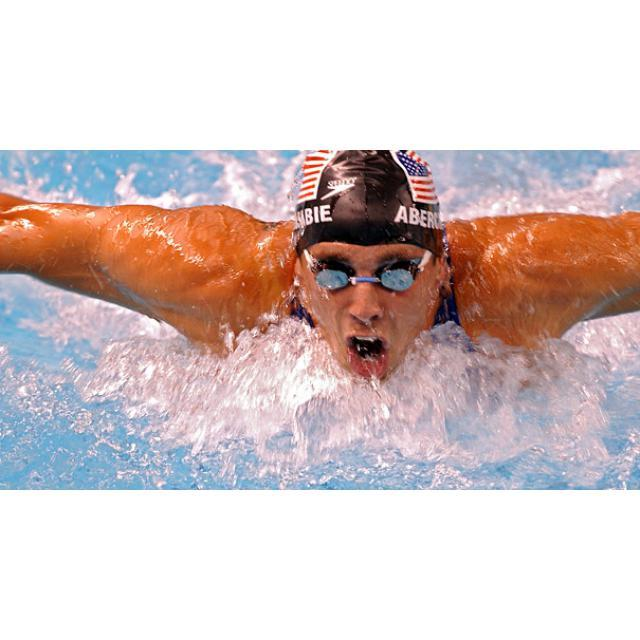human: (1, 166, 639, 399)
